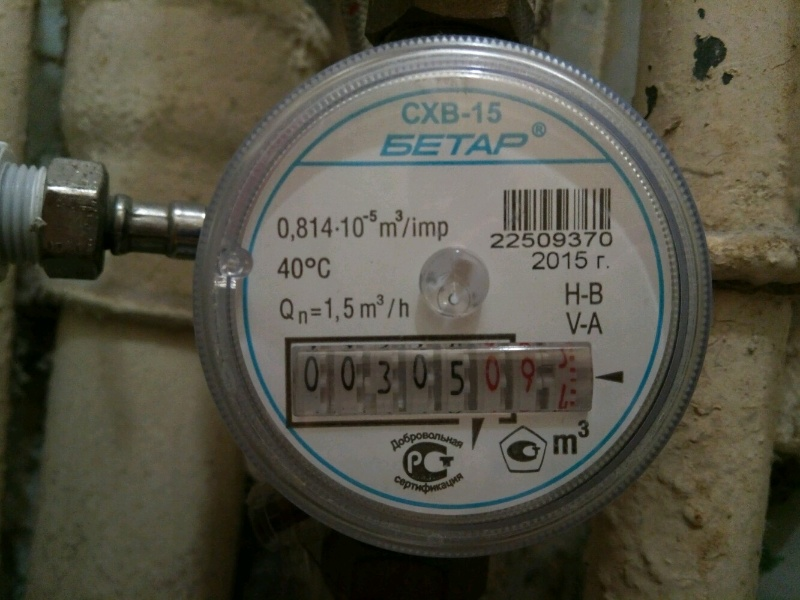meter: (293, 341, 588, 416)
